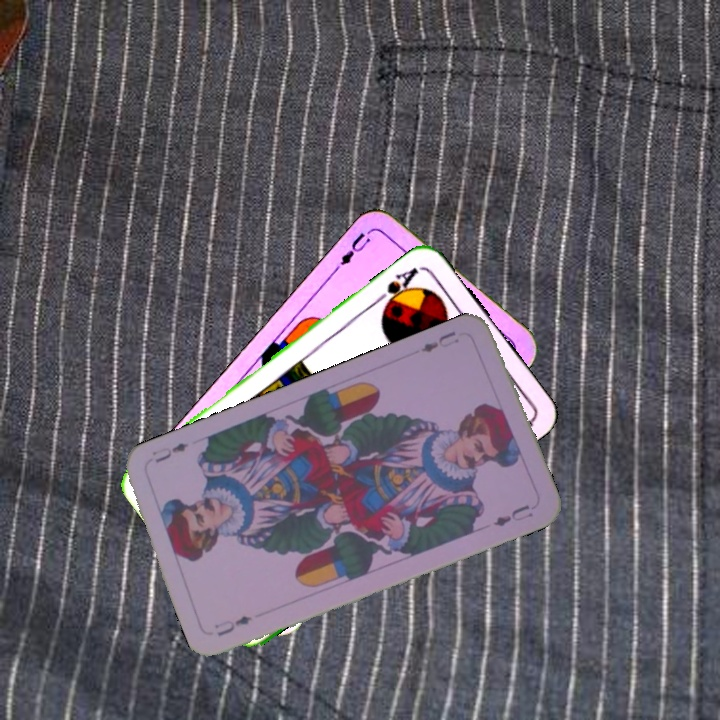EU: (331, 228, 373, 273), (417, 327, 458, 355), (213, 611, 254, 639)
SA: (372, 262, 421, 312)
